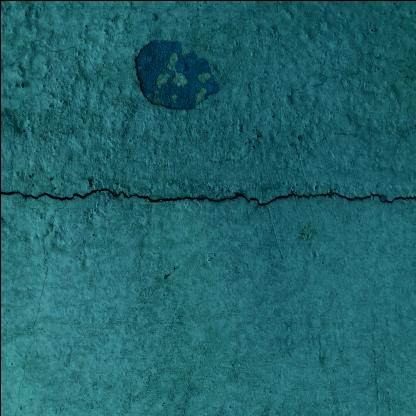crack: (0, 187, 416, 206)
